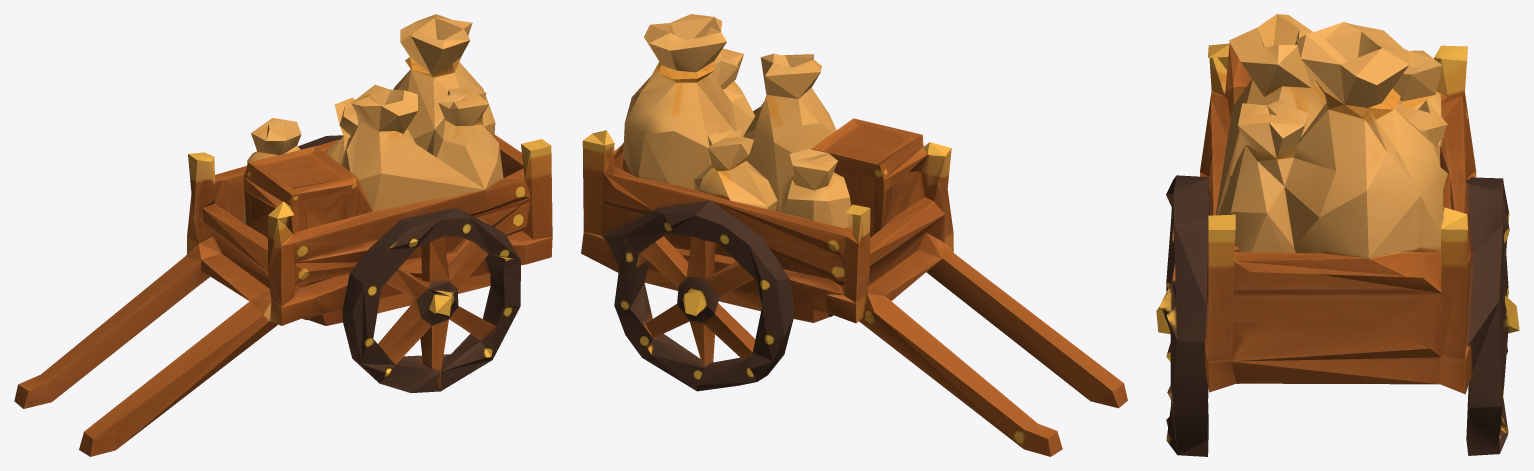
The model's file is TWN_PRP_cart_A.glb.
3 renders of one model, left to right at view 1: azimuth 30°, elevation 25°; view 2: azimuth 150°, elevation 25°; view 3: azimuth 270°, elevation 25°, orthographic. The views are drawn at different scales.
Parts seen in each view (by area): view 1: Mesh_0; view 2: Mesh_0; view 3: Mesh_0.
Part boxes in pixels (bbox=[...]): Mesh_0: bbox=[14, 14, 552, 456]; Mesh_0: bbox=[581, 14, 1127, 456]; Mesh_0: bbox=[1156, 14, 1519, 456].
Size of the model in its own units: 1.9 by 1.21 by 0.8996.
Materials: 1 (1 with a texture image).
